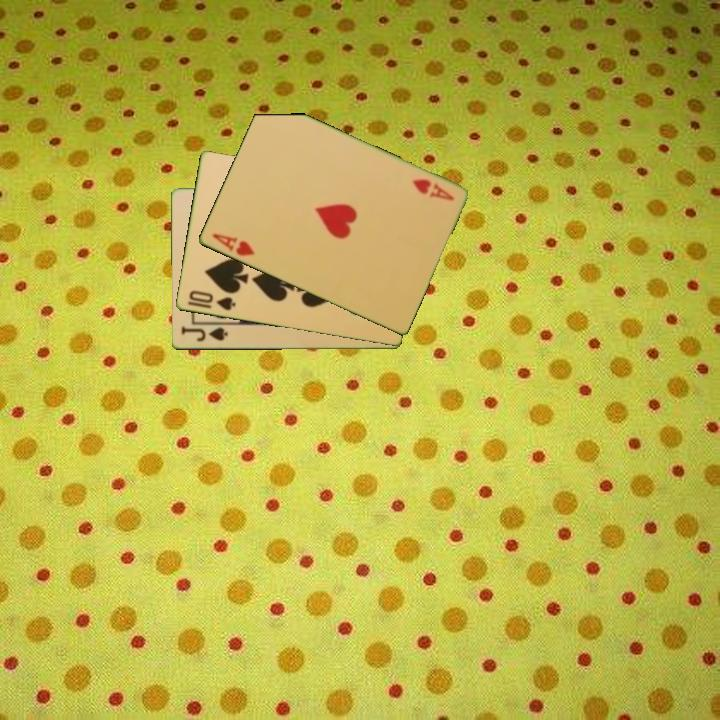10s: (184, 287, 238, 314)
Ah: (208, 230, 257, 259), (408, 175, 457, 204)
Js: (178, 323, 231, 345)
